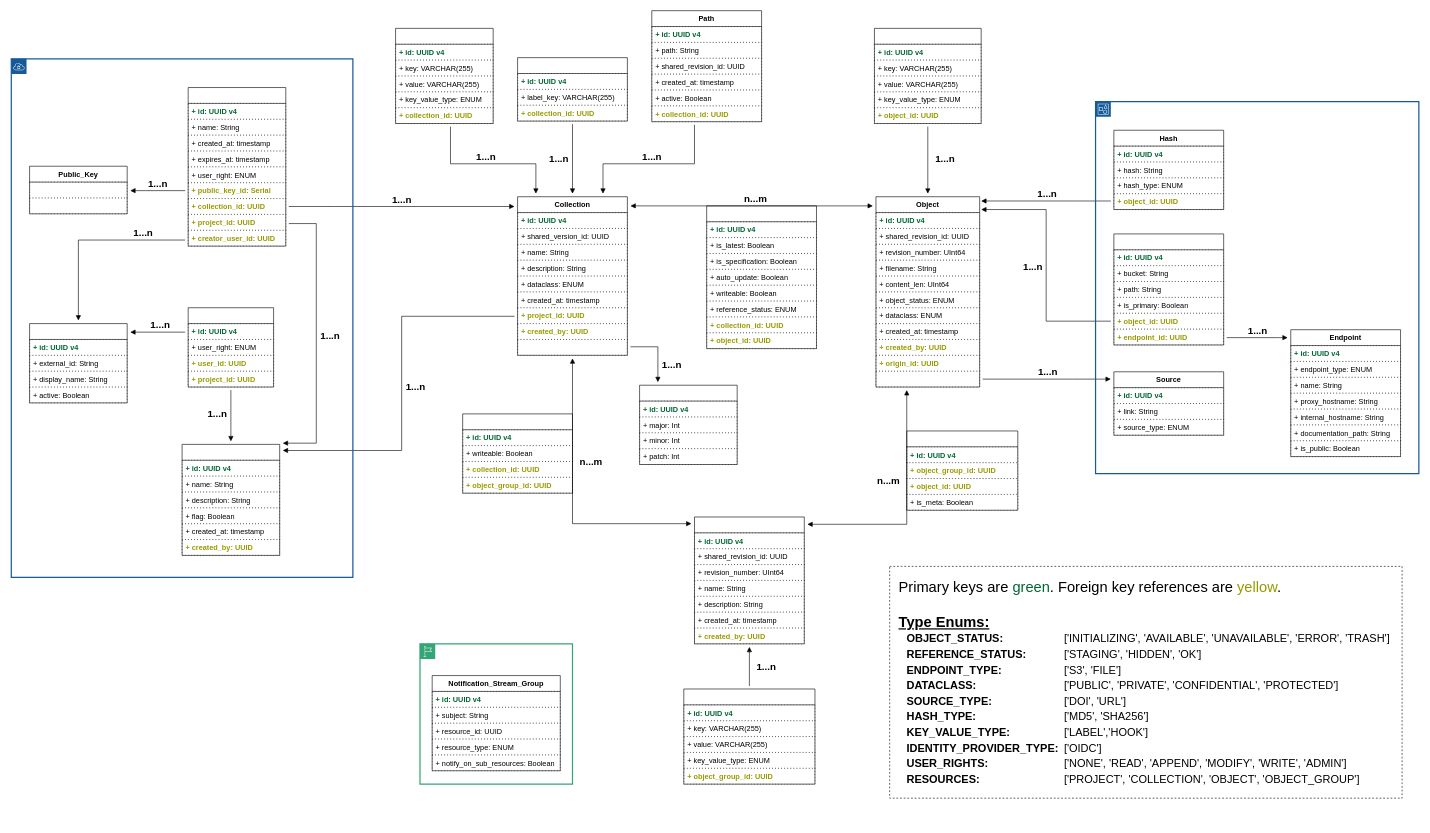
The diagram is 1430 pixels wide and 833 high, and some of its shapes have lost their labels. Here are the shapes that lost their labels. From the top down, the box of each, then its label:
(395, 28, 493, 124): Collection_Key_Value
(517, 57, 627, 121): Required_Label
(874, 28, 981, 124): Object_Key_Value
(188, 87, 286, 246): API_Token
(29, 181, 127, 198): + id: Serial
(29, 197, 127, 214): + public_key: String
(706, 205, 816, 349): Collection_Object
(1113, 233, 1224, 345): Object_Location
(1095, 101, 1419, 474): Internal Object Meta
(10, 58, 353, 578): Authentication / Authorization
(29, 323, 127, 403): User
(188, 307, 274, 387): User_Permission
(517, 339, 627, 355): + version_id: UUID
(875, 371, 980, 387): + source_id: UUID
(639, 385, 737, 465): Collection_Version
(462, 413, 572, 493): Collection_Object_Group
(906, 430, 1018, 510): Object_Group_Object
(181, 444, 280, 555): Project
(694, 516, 804, 644): Object_Group
(419, 643, 573, 784): NotificationService
(683, 688, 815, 784): Object_Group_Key_Value
